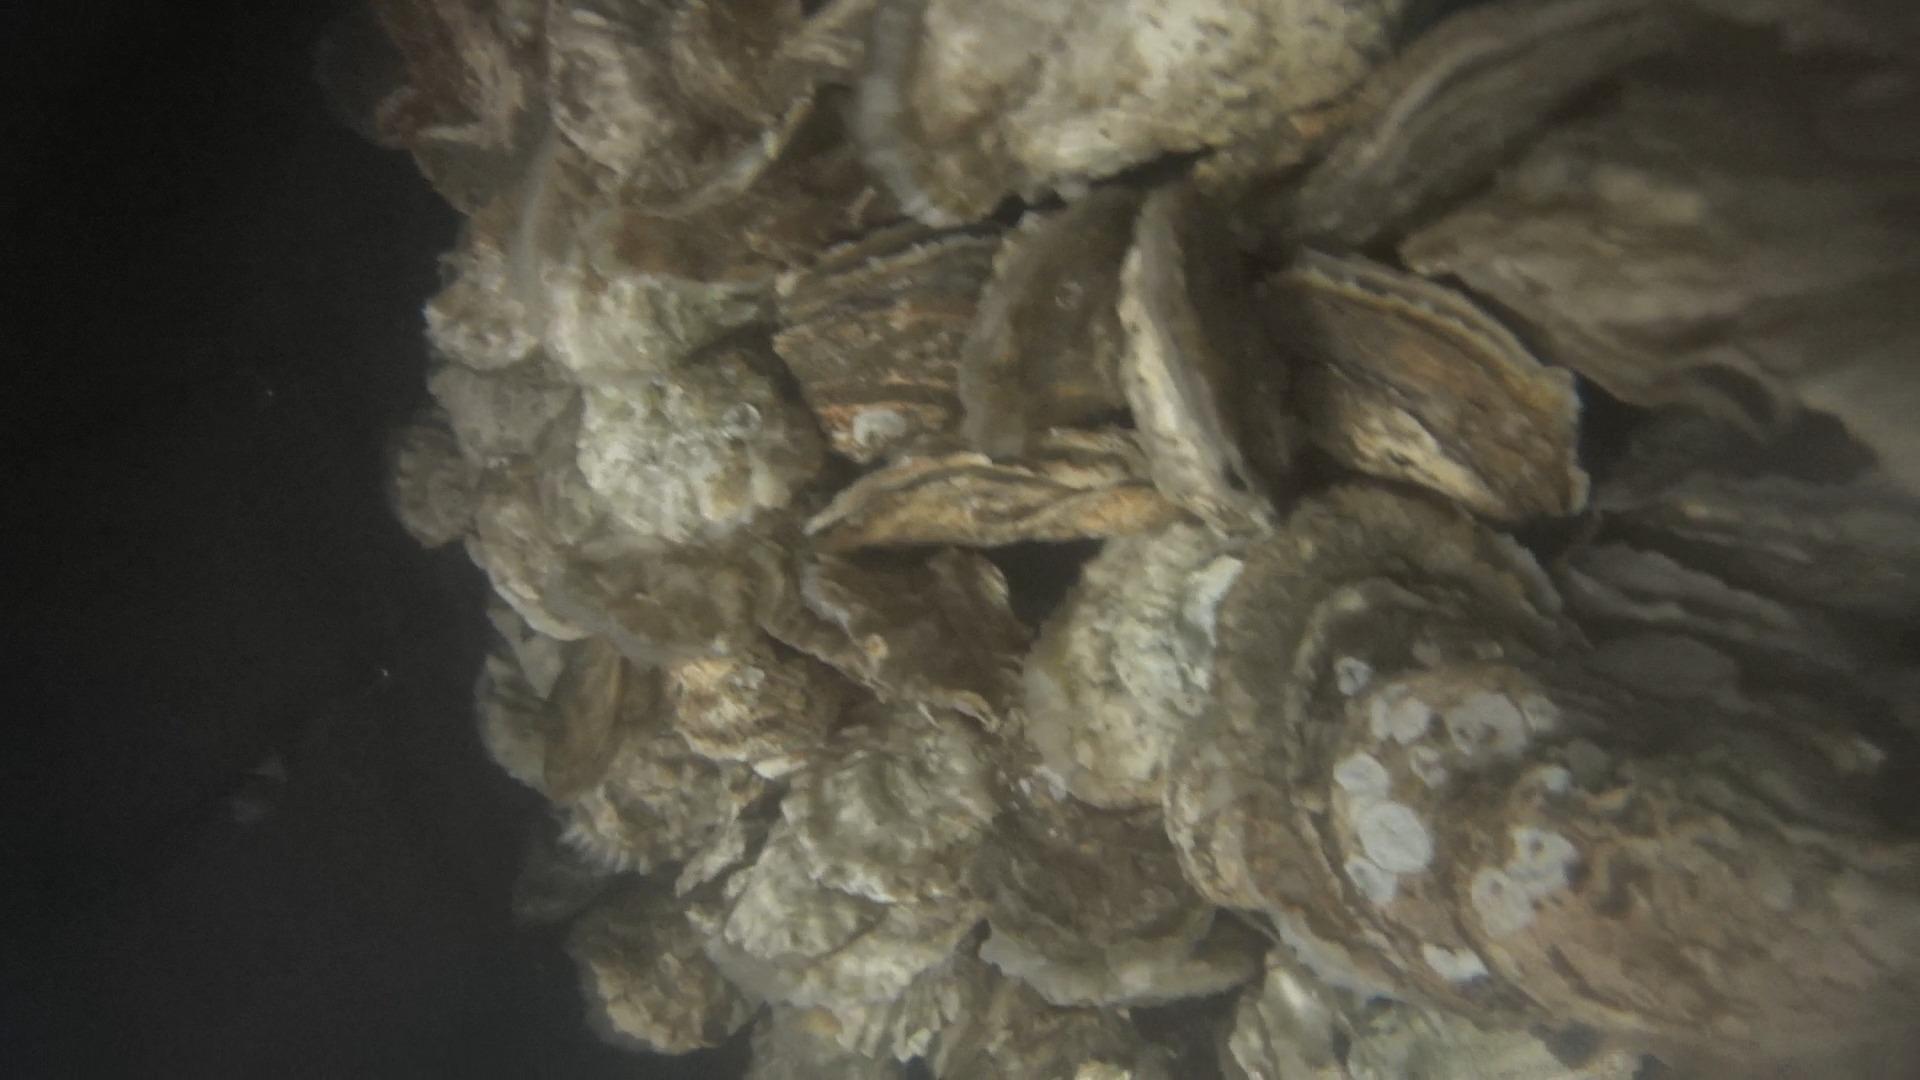3: (1234, 245, 1590, 517), (774, 210, 1001, 450), (1117, 171, 1253, 550), (1565, 546, 1873, 676), (806, 443, 1176, 545)
Oyster- Indeterminate: (1162, 487, 1920, 1080), (1408, 88, 1920, 417), (847, 0, 1480, 225), (980, 818, 1262, 1022), (1025, 541, 1240, 804), (961, 189, 1147, 465), (1233, 956, 1598, 1080), (568, 923, 735, 1055)
